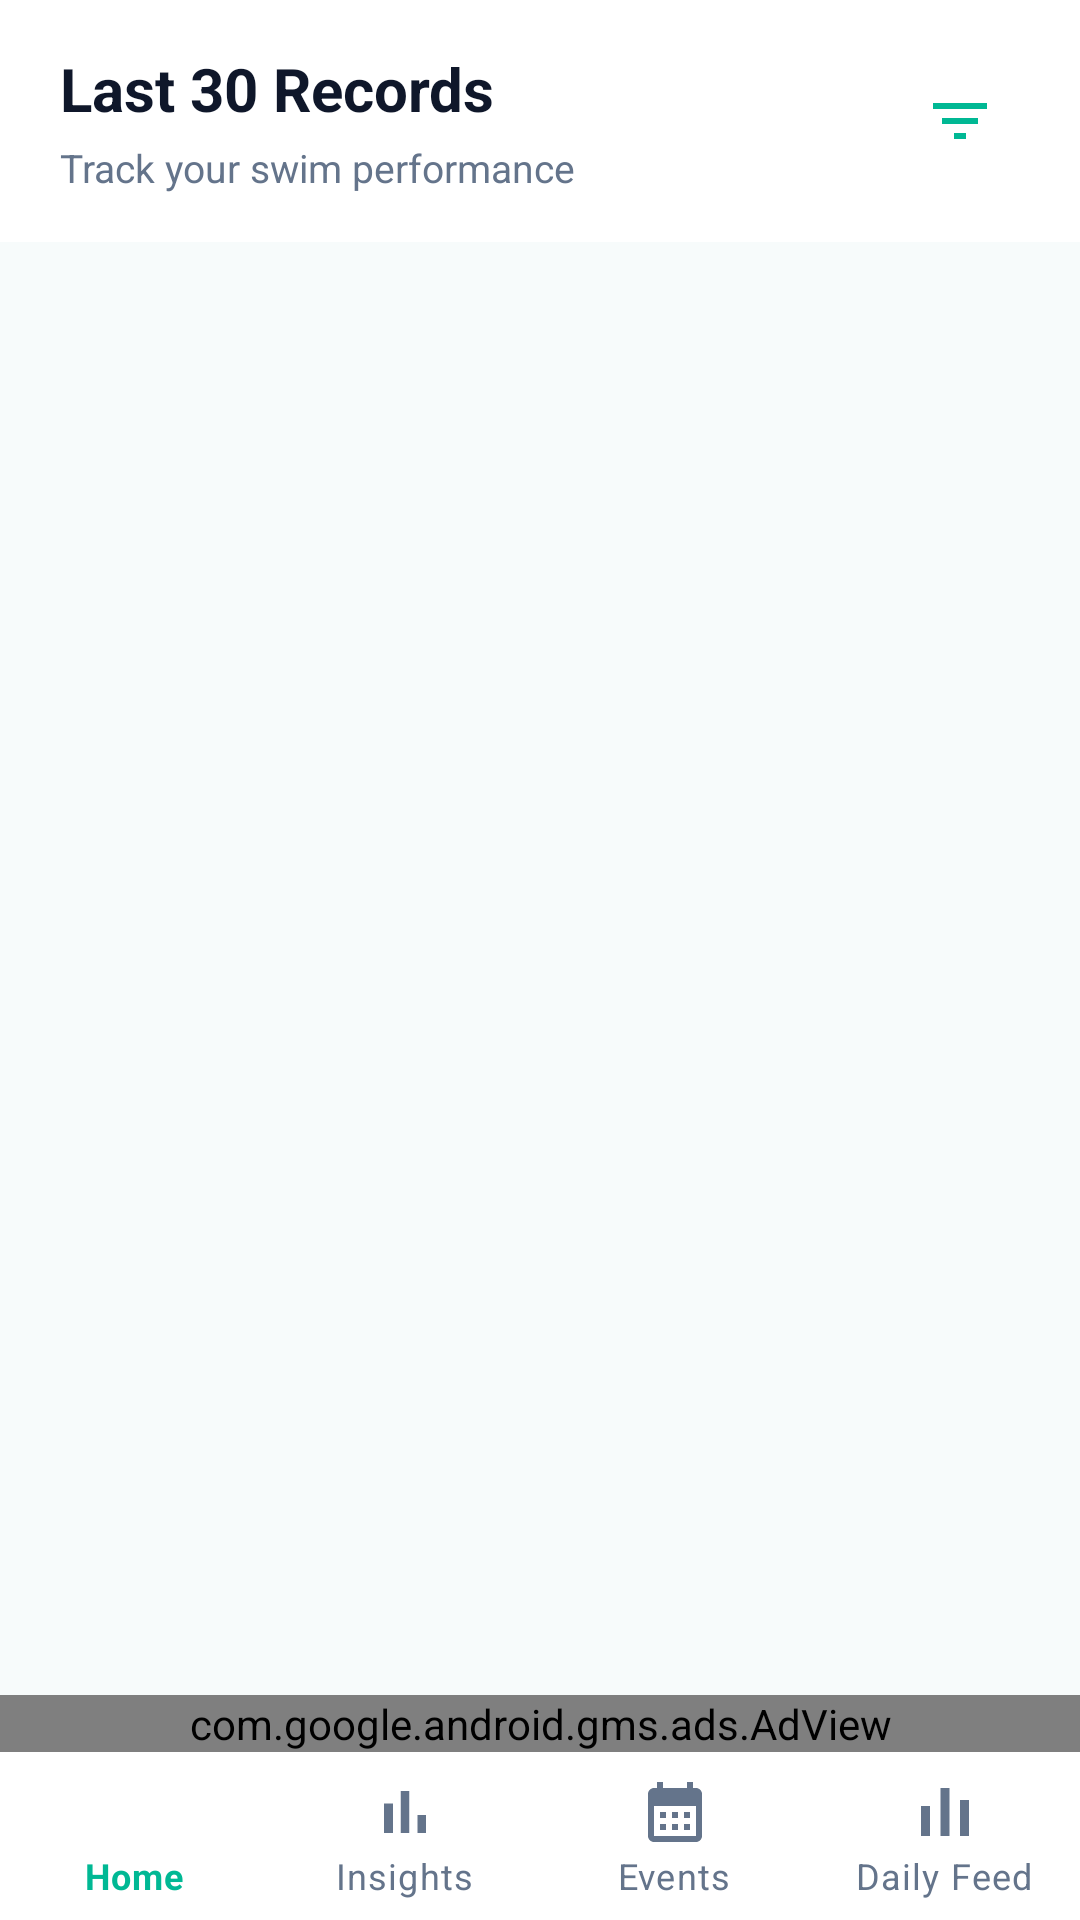

Named icons in this screenshot (1080w x 1920h) and their bounding boxes, (x1, y1, x2, y2):
Filter records: (933, 103, 987, 139)
